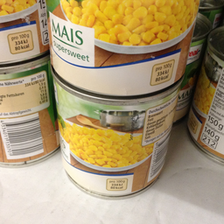corn: (50, 71, 181, 198), (47, 1, 198, 98)
